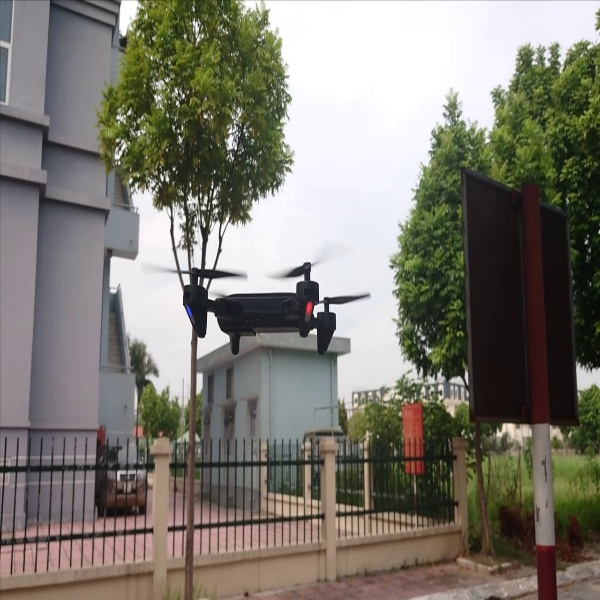drone: (148, 254, 374, 362)
